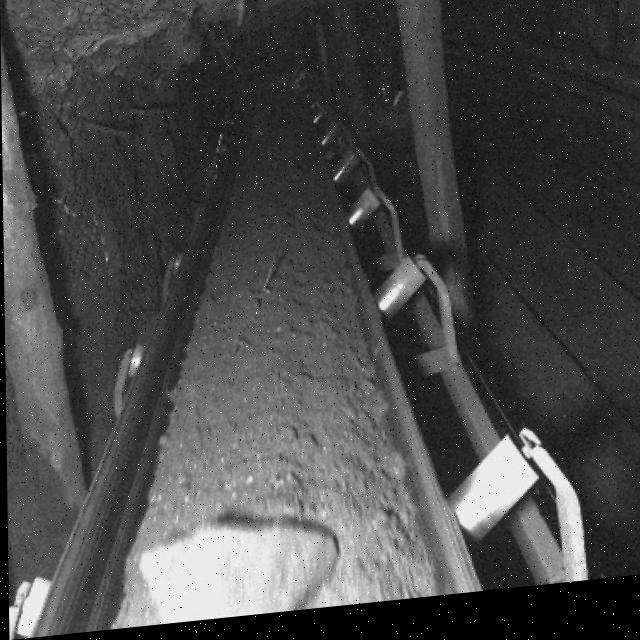large_sized_coal: (133, 517, 335, 630)
